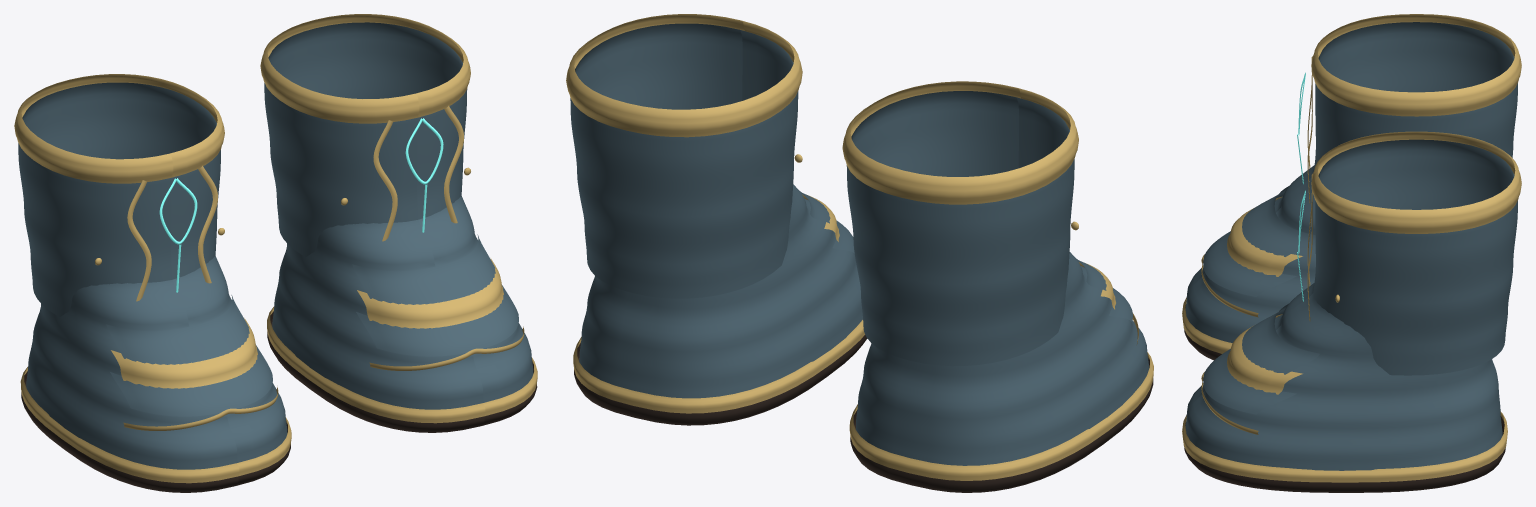
The model's file is guardians_boots.glb.
3 renders of one model, left to right at view 1: azimuth 30°, elevation 25°; view 2: azimuth 150°, elevation 25°; view 3: azimuth 270°, elevation 25°, orthographic. The views are drawn at different scales.
Parts seen in each view (by area): view 1: crate-guardians_boots-left-shoe-surface-0, crate-guardians_boots-right-shoe-surface-0, crate-guardians_boots-left-cuff-surface-0, crate-guardians_boots-right-cuff-surface-0, crate-guardians_boots-right-cuff-surface-1, crate-guardians_boots-left-cuff-surface-1, crate-guardians_boots-left-shoe-surface-2, crate-guardians_boots-right-shoe-surface-2, crate-guardians_boots-left-shoe-surface-1, crate-guardians_boots-right-shoe-surface-1, crate-guardians_boots-left-cuff-surface-2, crate-guardians_boots-right-cuff-surface-2; view 2: crate-guardians_boots-left-cuff-surface-0, crate-guardians_boots-right-cuff-surface-0, crate-guardians_boots-right-shoe-surface-0, crate-guardians_boots-left-shoe-surface-0, crate-guardians_boots-left-cuff-surface-1, crate-guardians_boots-right-cuff-surface-1, crate-guardians_boots-right-shoe-surface-2, crate-guardians_boots-left-shoe-surface-2, crate-guardians_boots-right-shoe-surface-1, crate-guardians_boots-left-shoe-surface-1; view 3: crate-guardians_boots-left-cuff-surface-0, crate-guardians_boots-left-shoe-surface-0, crate-guardians_boots-right-cuff-surface-0, crate-guardians_boots-right-shoe-surface-0, crate-guardians_boots-left-cuff-surface-1, crate-guardians_boots-right-cuff-surface-1, crate-guardians_boots-left-shoe-surface-2, crate-guardians_boots-left-shoe-surface-1, crate-guardians_boots-right-shoe-surface-2.
Part boxes in pixels (x1=…): crate-guardians_boots-left-shoe-surface-0: x1=272, y1=195, x2=533, y2=409; crate-guardians_boots-right-shoe-surface-0: x1=26, y1=255, x2=287, y2=469; crate-guardians_boots-left-cuff-surface-0: x1=264, y1=22, x2=467, y2=256; crate-guardians_boots-right-cuff-surface-0: x1=18, y1=82, x2=220, y2=316; crate-guardians_boots-right-cuff-surface-1: x1=14, y1=74, x2=224, y2=301; crate-guardians_boots-left-cuff-surface-1: x1=260, y1=14, x2=470, y2=241; crate-guardians_boots-left-shoe-surface-2: x1=267, y1=258, x2=537, y2=423; crate-guardians_boots-right-shoe-surface-2: x1=20, y1=318, x2=291, y2=483; crate-guardians_boots-left-shoe-surface-1: x1=267, y1=311, x2=537, y2=432; crate-guardians_boots-right-shoe-surface-1: x1=21, y1=371, x2=290, y2=492; crate-guardians_boots-left-cuff-surface-2: x1=405, y1=118, x2=443, y2=232; crate-guardians_boots-right-cuff-surface-2: x1=159, y1=178, x2=197, y2=292; crate-guardians_boots-left-cuff-surface-0: x1=570, y1=23, x2=798, y2=298; crate-guardians_boots-right-cuff-surface-0: x1=846, y1=91, x2=1074, y2=366; crate-guardians_boots-right-shoe-surface-0: x1=856, y1=252, x2=1149, y2=465; crate-guardians_boots-left-shoe-surface-0: x1=579, y1=184, x2=862, y2=398; crate-guardians_boots-left-cuff-surface-1: x1=566, y1=14, x2=802, y2=162; crate-guardians_boots-right-cuff-surface-1: x1=842, y1=81, x2=1078, y2=230; crate-guardians_boots-right-shoe-surface-2: x1=849, y1=262, x2=1153, y2=480; crate-guardians_boots-left-shoe-surface-2: x1=573, y1=194, x2=864, y2=413; crate-guardians_boots-right-shoe-surface-1: x1=850, y1=358, x2=1153, y2=492; crate-guardians_boots-left-shoe-surface-1: x1=574, y1=335, x2=867, y2=425; crate-guardians_boots-left-cuff-surface-0: x1=1313, y1=139, x2=1517, y2=375; crate-guardians_boots-left-shoe-surface-0: x1=1185, y1=283, x2=1502, y2=470; crate-guardians_boots-right-cuff-surface-0: x1=1313, y1=22, x2=1517, y2=171; crate-guardians_boots-right-shoe-surface-0: x1=1185, y1=165, x2=1315, y2=342; crate-guardians_boots-left-cuff-surface-1: x1=1307, y1=131, x2=1521, y2=321; crate-guardians_boots-right-cuff-surface-1: x1=1307, y1=14, x2=1521, y2=203; crate-guardians_boots-left-shoe-surface-2: x1=1182, y1=314, x2=1507, y2=482; crate-guardians_boots-left-shoe-surface-1: x1=1184, y1=416, x2=1505, y2=492; crate-guardians_boots-right-shoe-surface-2: x1=1182, y1=196, x2=1302, y2=353.
Size of the model in its own units: 0.746 by 0.469 by 0.5129.
